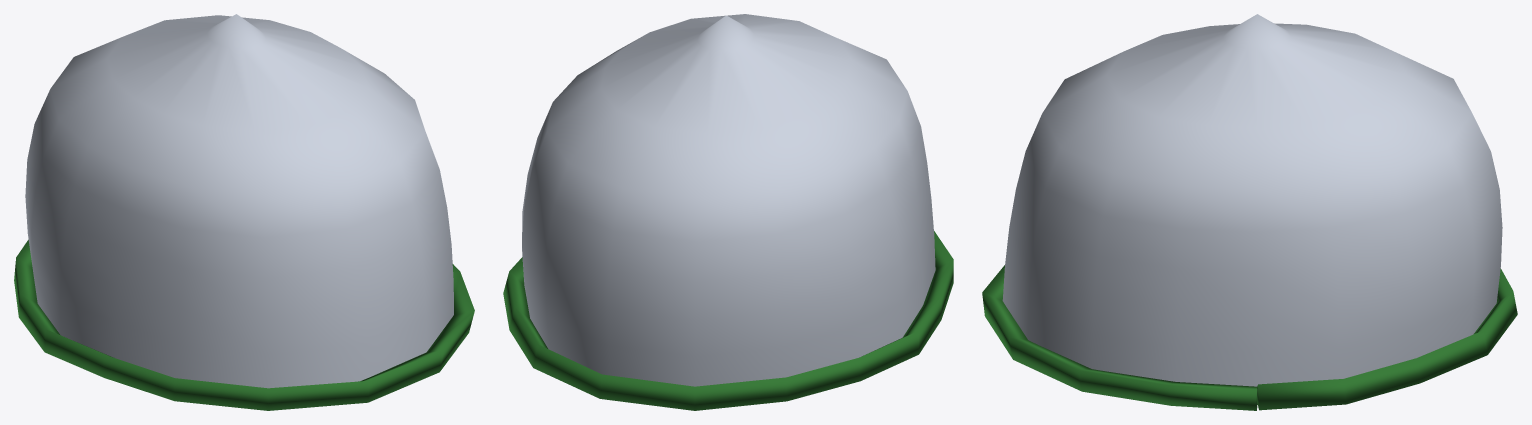
The model's file is golf_outfit_head.glb.
The picture shows the model from 3 angles, left to right: view 1: azimuth 30°, elevation 25°; view 2: azimuth 150°, elevation 25°; view 3: azimuth 270°, elevation 25°; orthographic projection. The views are drawn at different scales.
Visible parts, largest first — view 1: golf_outfit_head; view 2: golf_outfit_head; view 3: golf_outfit_head.
Boxes of the visible parts, <box> form: golf_outfit_head: <box>14,14,474,410</box>; golf_outfit_head: <box>503,14,953,410</box>; golf_outfit_head: <box>982,14,1517,410</box>.
Bounding box in the file's own units: 0.2403 × 0.1754 × 0.2808.
